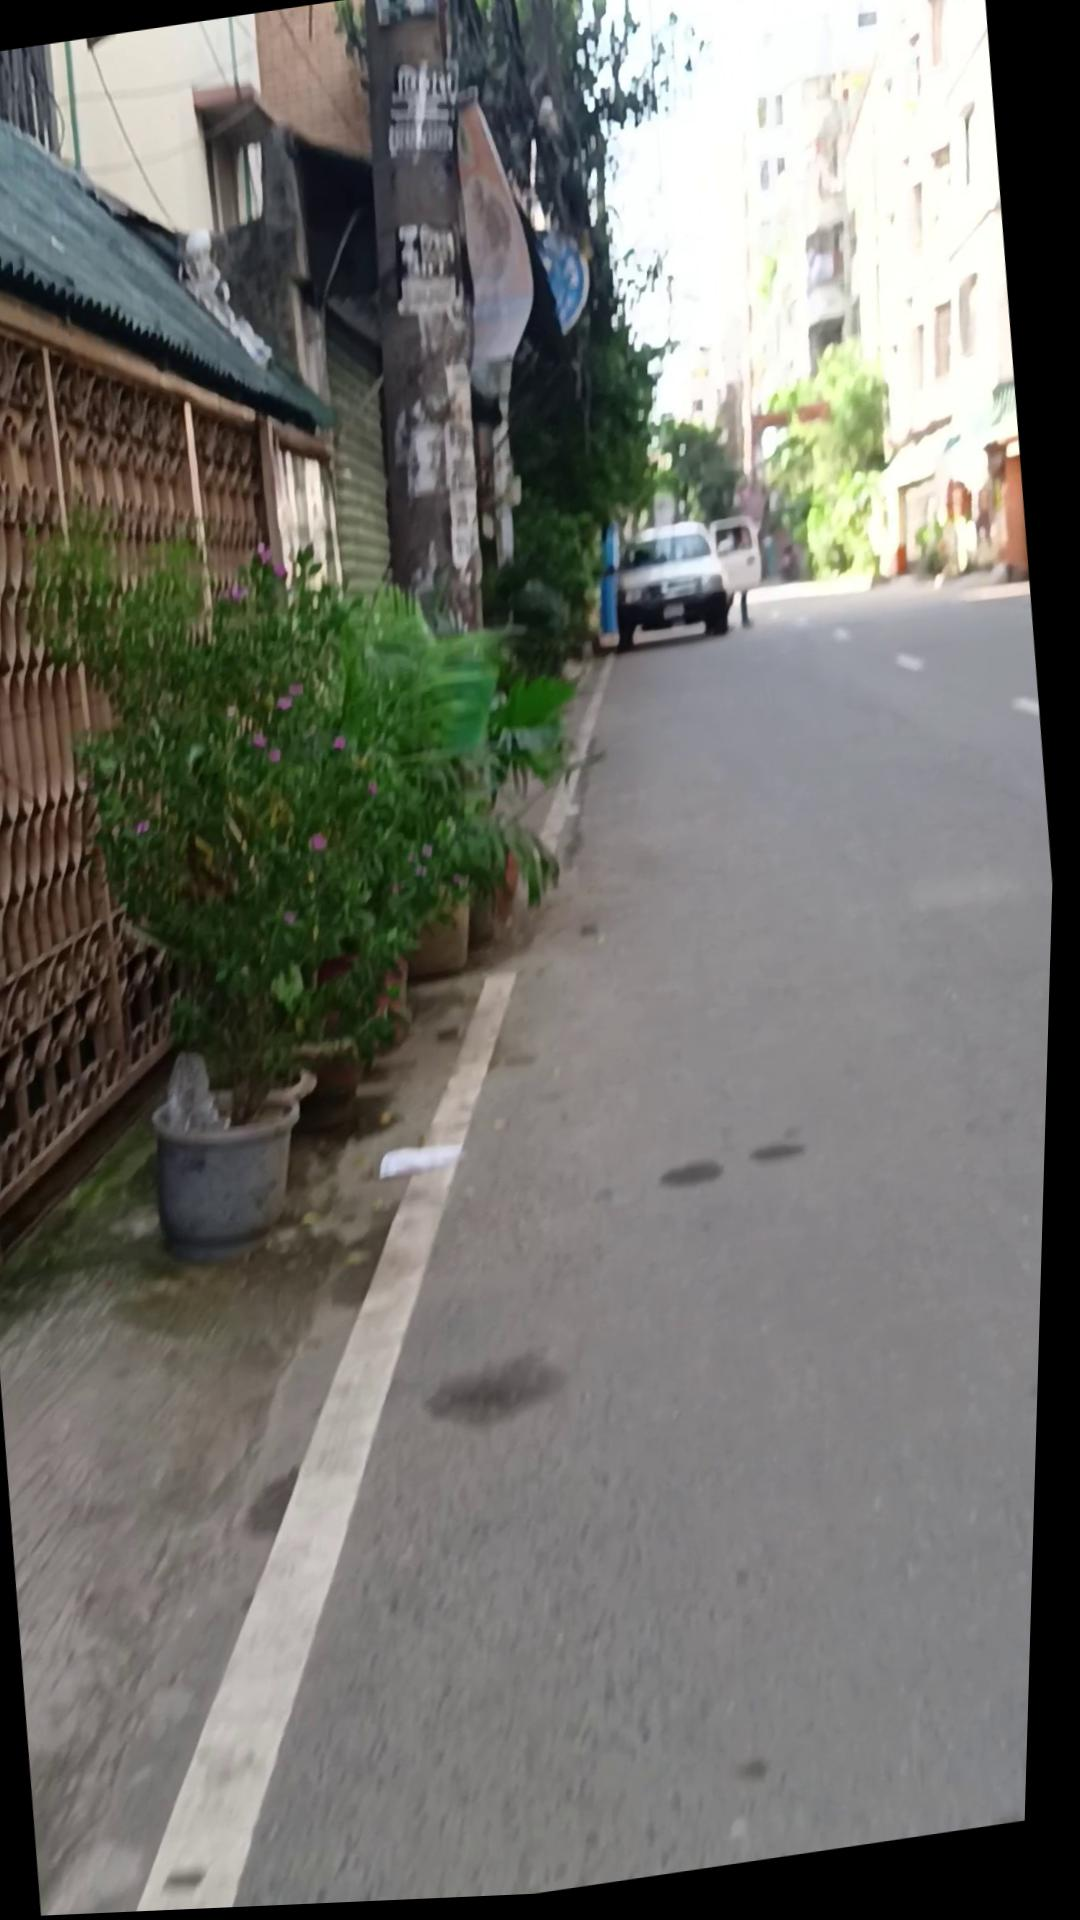Bollard: (607, 520, 740, 660)
Dog: (329, 0, 520, 653)
Fallen-tree: (23, 428, 642, 1280)
Light-pole: (746, 336, 911, 605)
